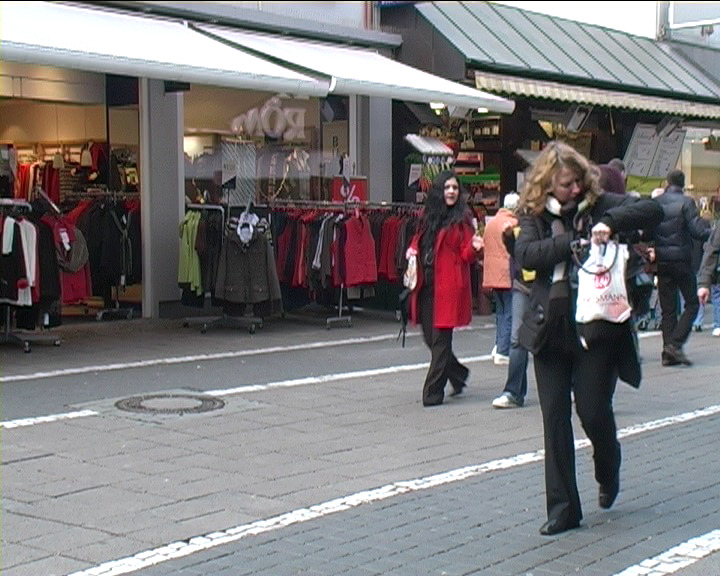deflection: (516, 146, 647, 237), (416, 166, 478, 241)
